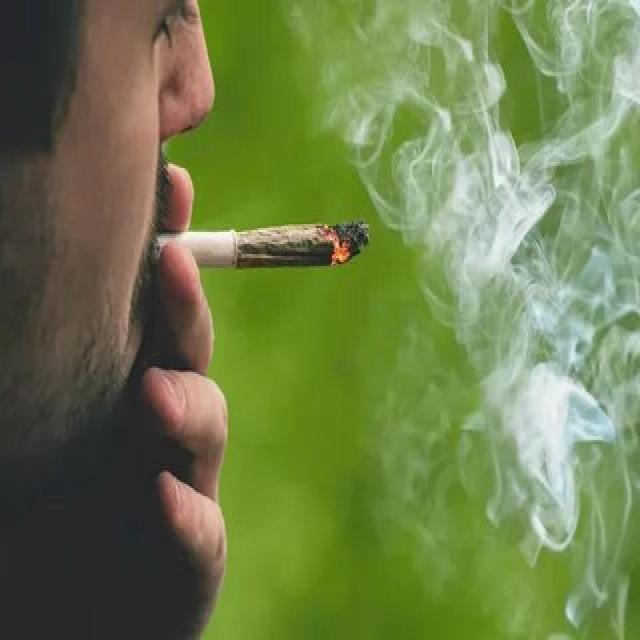cigarette: (149, 214, 372, 282)
